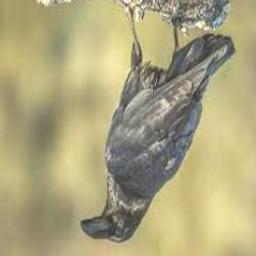Crow: (80, 2, 234, 243)
